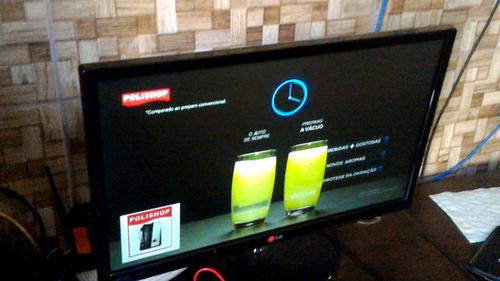Polishop #1: (120, 203, 180, 264)
